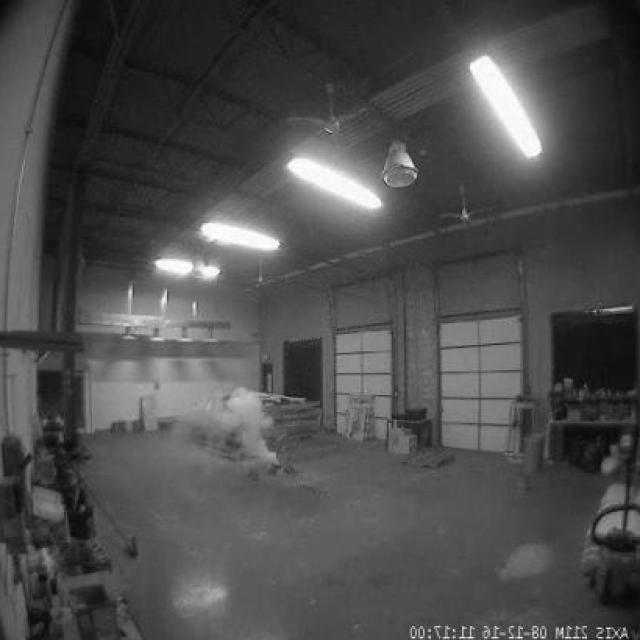fire: (206, 380, 287, 470)
